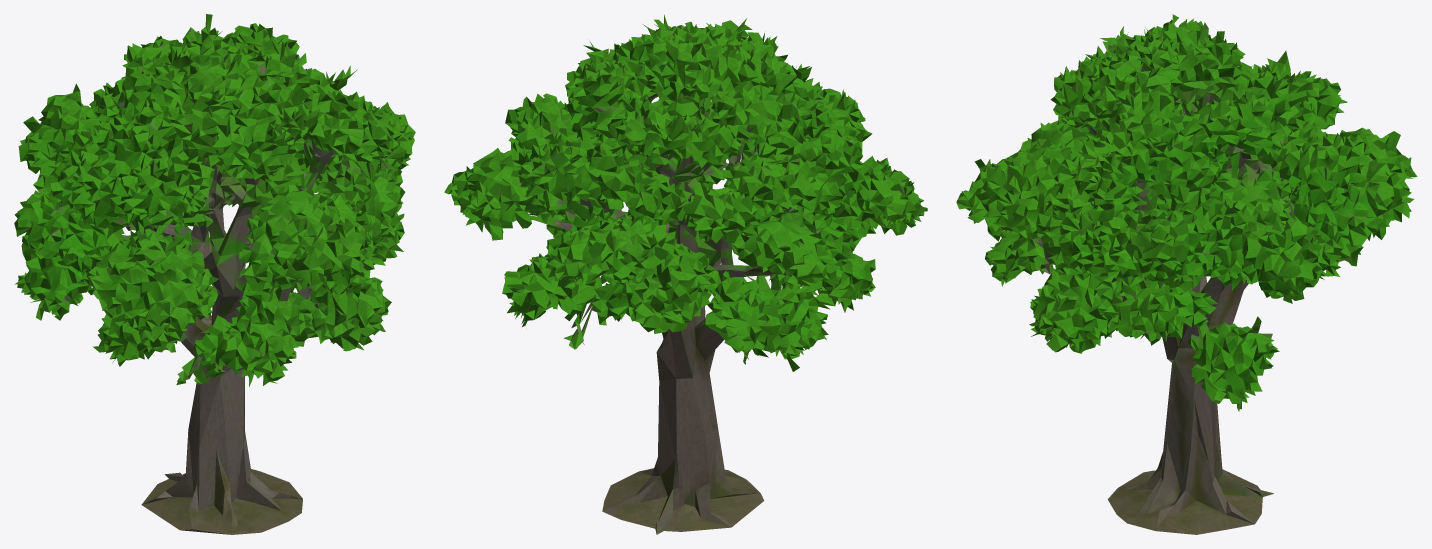
Rendered from tree.glb.
3 renders of one model, left to right at view 1: azimuth 30°, elevation 25°; view 2: azimuth 150°, elevation 25°; view 3: azimuth 270°, elevation 25°, orthographic.
Bounding box in the file's own units: 1.55 × 1.9 × 1.69.
Materials: 1 (1 with a texture image).
